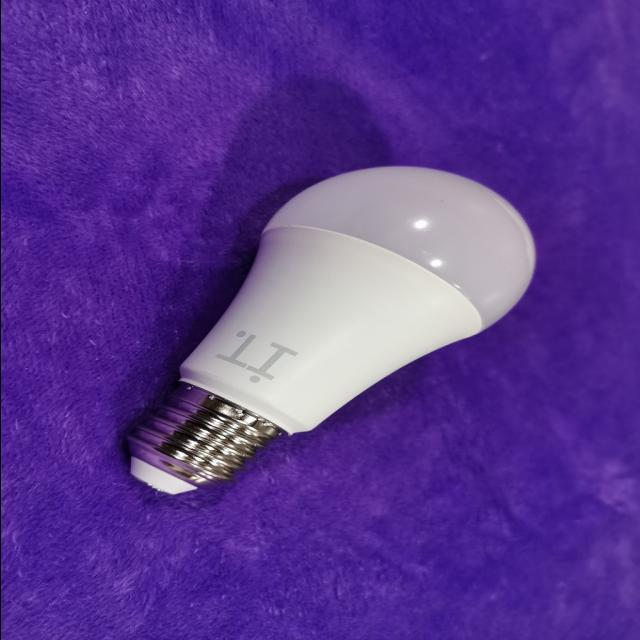light_bulb: (102, 145, 568, 509)
